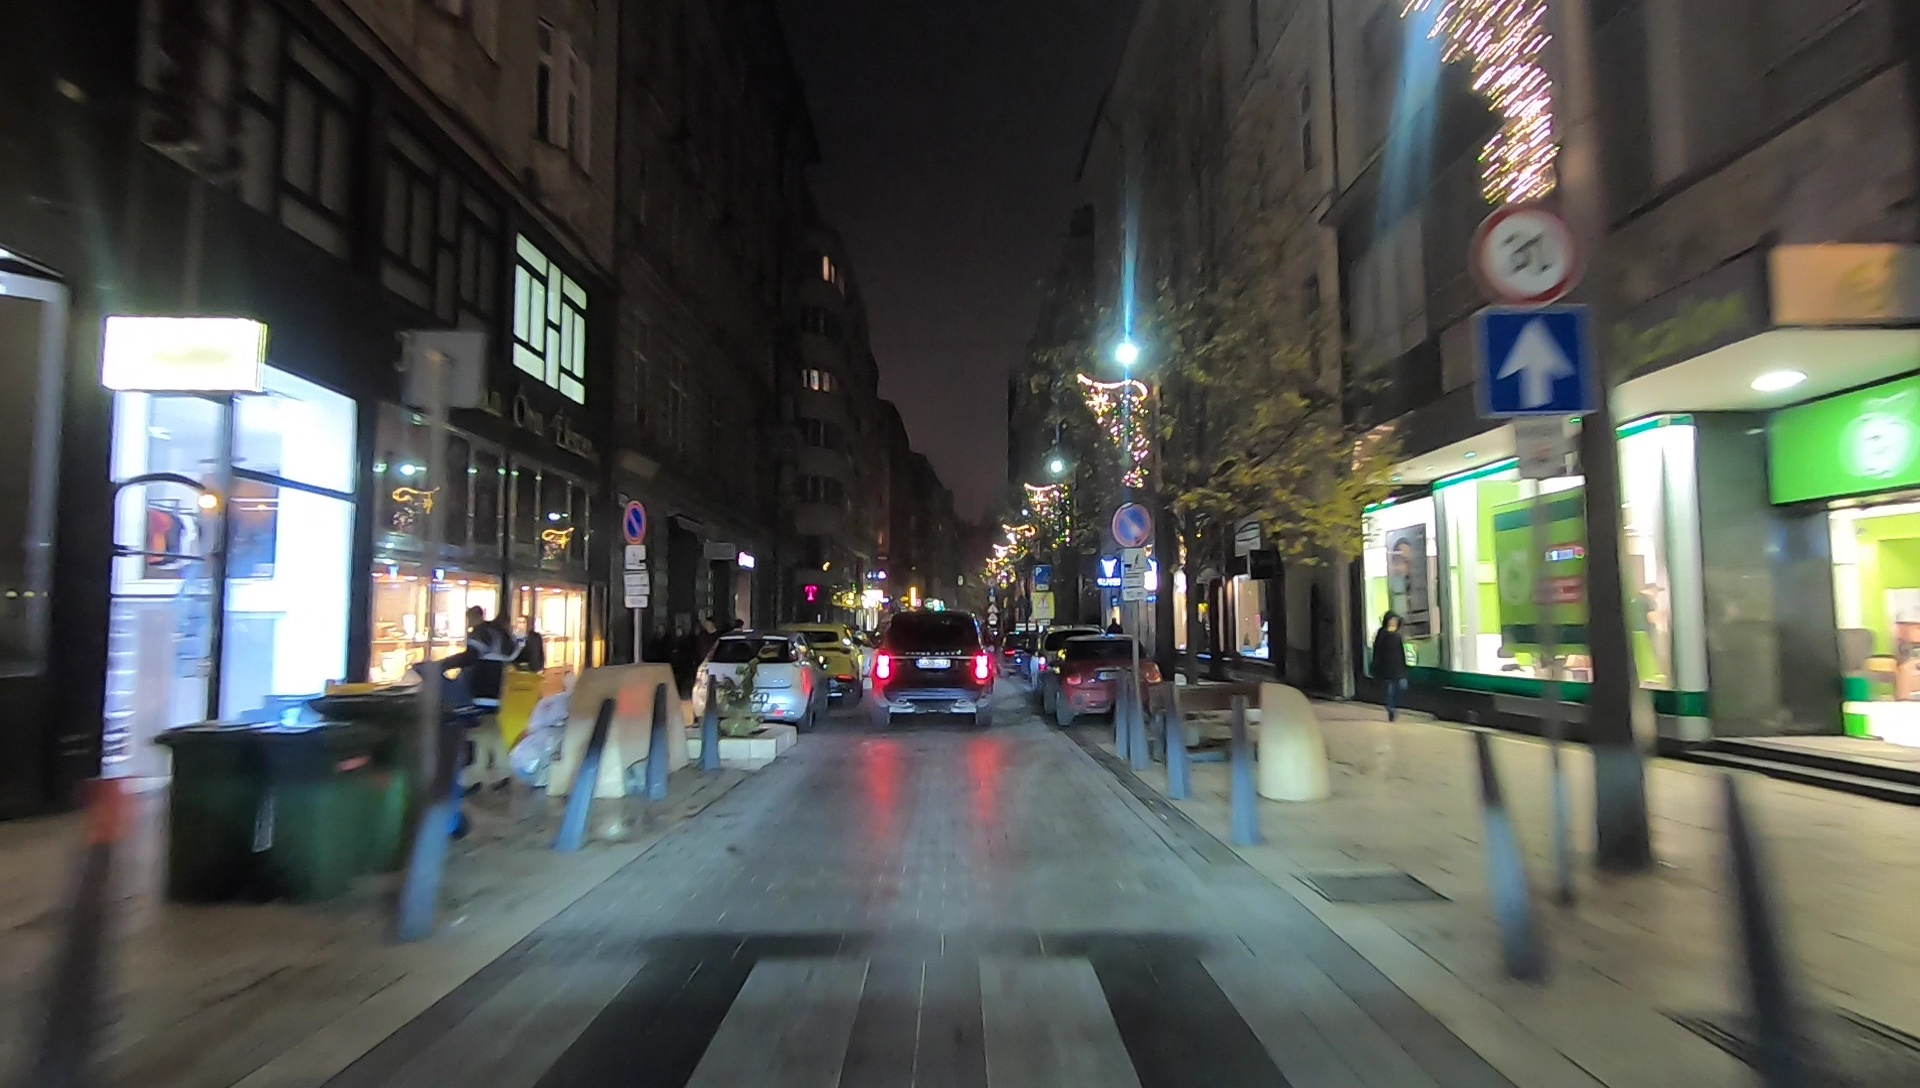person: (460, 609, 506, 744), (1371, 611, 1410, 724)
